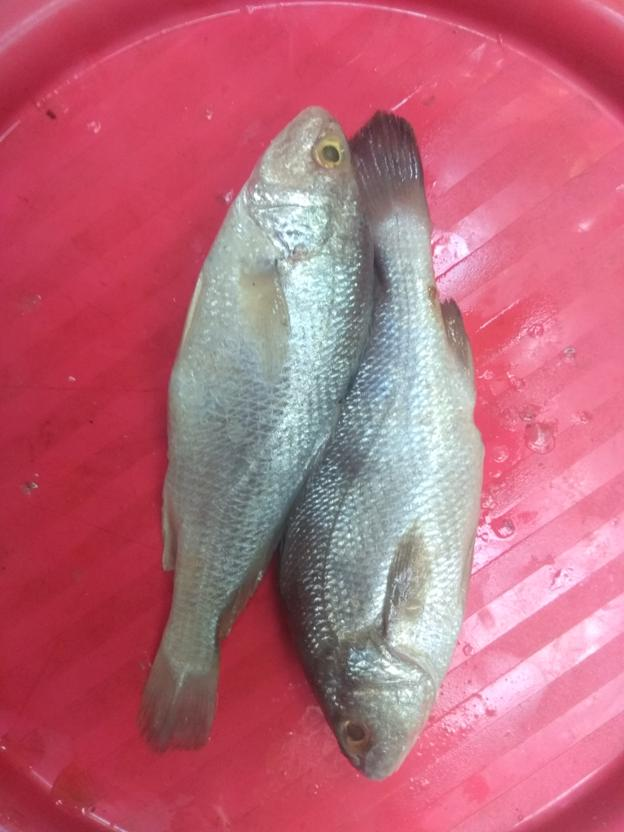Fish head: (241, 102, 368, 262), (315, 635, 444, 781)
Fish tail: (349, 108, 435, 243), (135, 645, 218, 756)
